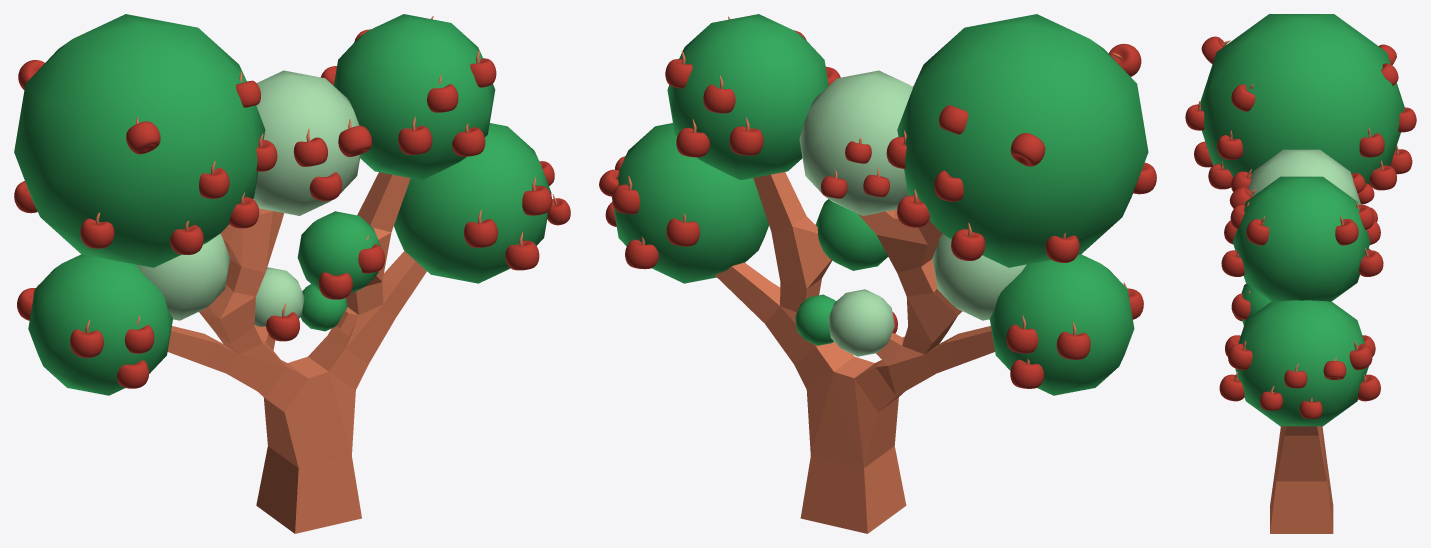
Rendered from treew2finalapple.fbx.
3 renders of one model, left to right at view 1: azimuth 30°, elevation 25°; view 2: azimuth 150°, elevation 25°; view 3: azimuth 270°, elevation 25°, orthographic. The views are drawn at different scales.
Parts seen in each view (by area): view 1: Icosphere, Cube, Icosphere.002, Icosphere.003, Icosphere.005, Icosphere.001, Icosphere.007, Icosphere.008, Icosphere.004, Icosphere.006, Cylinder.003, Cylinder.038 (+17 smaller); view 2: Icosphere, Cube, Icosphere.002, Icosphere.003, Icosphere.005, Icosphere.001, Icosphere.008, Icosphere.004, Icosphere.007, Icosphere.006, Cylinder.019, Cylinder.023 (+15 smaller); view 3: Icosphere, Icosphere.002, Icosphere.003, Cube, Icosphere.001, Cylinder.022, Cylinder.005, Cylinder.015, Cylinder.021, Cylinder.012, Cylinder.029, Cylinder.031 (+20 smaller).
Part boxes in pixels (bbox=[...]): Icosphere: bbox=[14, 14, 265, 267]; Cube: bbox=[167, 172, 426, 533]; Icosphere.002: bbox=[334, 14, 495, 180]; Icosphere.003: bbox=[394, 123, 551, 283]; Icosphere.005: bbox=[28, 254, 172, 395]; Icosphere.001: bbox=[253, 70, 360, 215]; Icosphere.007: bbox=[297, 211, 380, 293]; Icosphere.008: bbox=[136, 233, 230, 320]; Icosphere.004: bbox=[254, 267, 304, 326]; Icosphere.006: bbox=[300, 284, 347, 331]; Cylinder.003: bbox=[126, 116, 160, 154]; Cylinder.038: bbox=[338, 119, 372, 157]; Icosphere: bbox=[897, 14, 1148, 267]; Cube: bbox=[715, 172, 994, 533]; Icosphere.002: bbox=[667, 14, 828, 180]; Icosphere.003: bbox=[612, 123, 768, 283]; Icosphere.005: bbox=[989, 254, 1134, 395]; Icosphere.001: bbox=[799, 70, 912, 215]; Icosphere.008: bbox=[932, 234, 1026, 320]; Icosphere.004: bbox=[828, 289, 894, 356]; Icosphere.007: bbox=[815, 199, 888, 270]; Icosphere.006: bbox=[795, 294, 836, 345]; Cylinder.019: bbox=[951, 222, 985, 260]; Cylinder.023: bbox=[1010, 133, 1045, 166]; Icosphere: bbox=[1200, 14, 1404, 186]; Icosphere.002: bbox=[1232, 176, 1370, 301]; Icosphere.003: bbox=[1235, 300, 1368, 426]; Cube: bbox=[1270, 426, 1333, 533]; Icosphere.001: bbox=[1248, 149, 1361, 204]; Cylinder.022: bbox=[1369, 160, 1396, 190]; Cylinder.005: bbox=[1217, 130, 1242, 159]; Cylinder.015: bbox=[1219, 372, 1244, 401]; Cylinder.021: bbox=[1359, 127, 1384, 157]; Cylinder.012: bbox=[1228, 341, 1252, 370]; Cylinder.029: bbox=[1359, 247, 1383, 276]; Cylinder.031: bbox=[1335, 216, 1358, 245].
Bounding box in the file's own units: 57.44 × 56.23 × 27.14.
